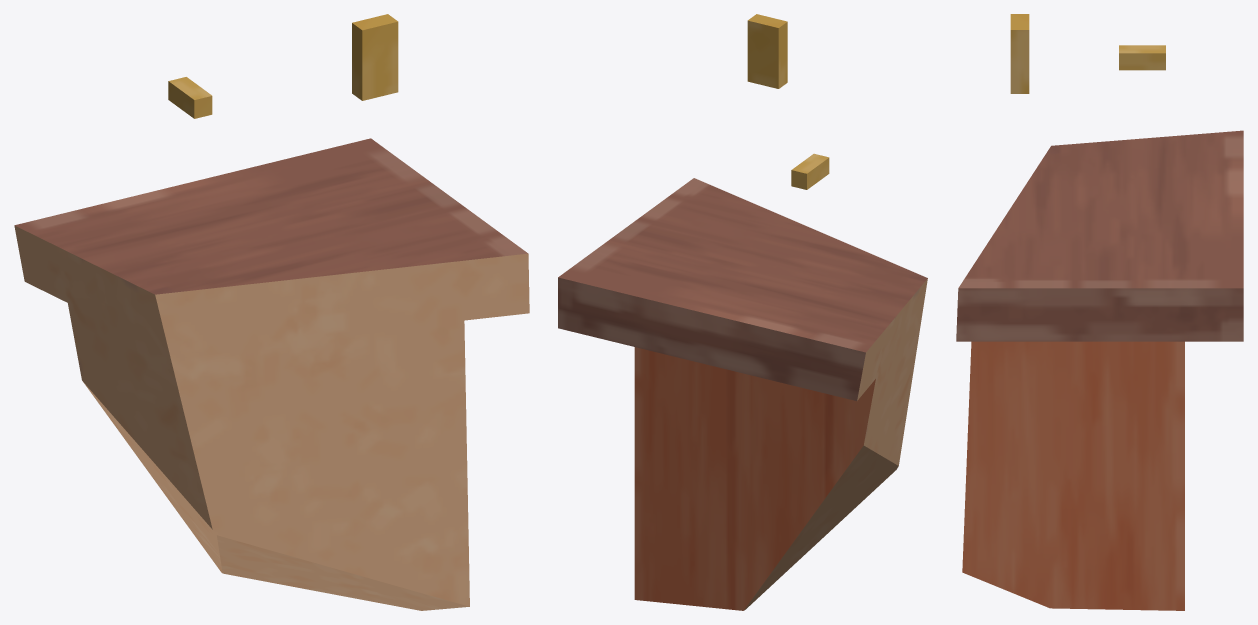
Rendered from counter_s01.fbx.
3 views of the same model, side by side, from view 1: azimuth 30°, elevation 25°; view 2: azimuth 150°, elevation 25°; view 3: azimuth 270°, elevation 25° (orthographic). The views are drawn at different scales.
Parts seen in each view (by area): view 1: counter_s01; view 2: counter_s01; view 3: counter_s01.
Boxes of the visible parts, bbox=[...] form: counter_s01: bbox=[14, 14, 529, 610]; counter_s01: bbox=[558, 14, 927, 610]; counter_s01: bbox=[956, 14, 1243, 610].
Size of the model in its own units: 1.58 by 2.63 by 1.22.
